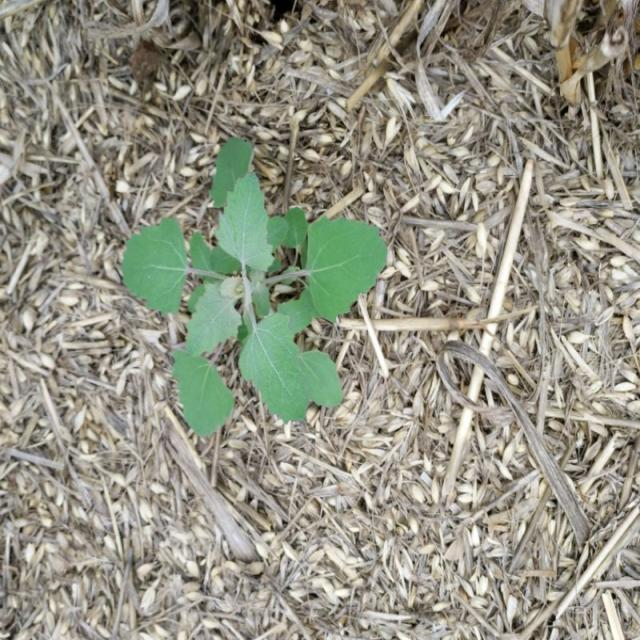goosefoots: (108, 145, 398, 430)
